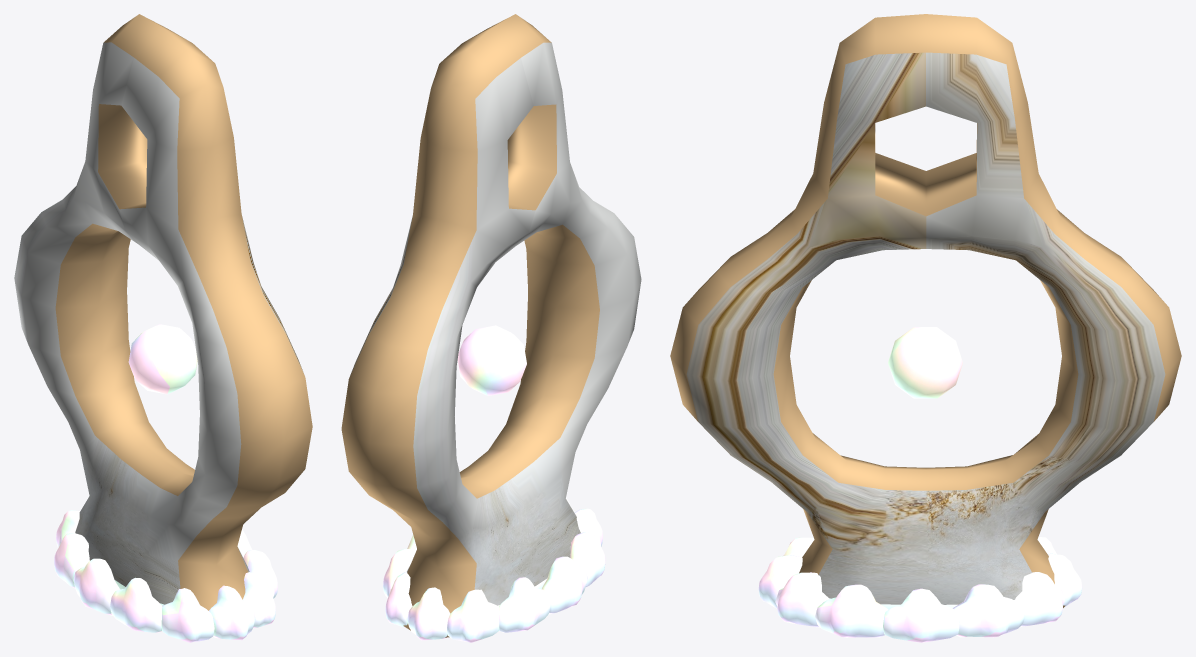
Rendered from track2Building6.glb.
The picture shows the model from 3 angles, left to right: view 1: azimuth 30°, elevation 25°; view 2: azimuth 150°, elevation 25°; view 3: azimuth 270°, elevation 25°; orthographic projection. The views are drawn at different scales.
Parts seen in each view (by area): view 1: track2building6; view 2: track2building6; view 3: track2building6.
Boxes of the visible parts, box(x1,y1,x2,y2) form: track2building6: box(14, 14, 312, 642); track2building6: box(341, 14, 641, 642); track2building6: box(670, 14, 1181, 642).
Size of the model in its own units: 1.85 by 5.96 by 4.62.
3 materials, 2 textured.
